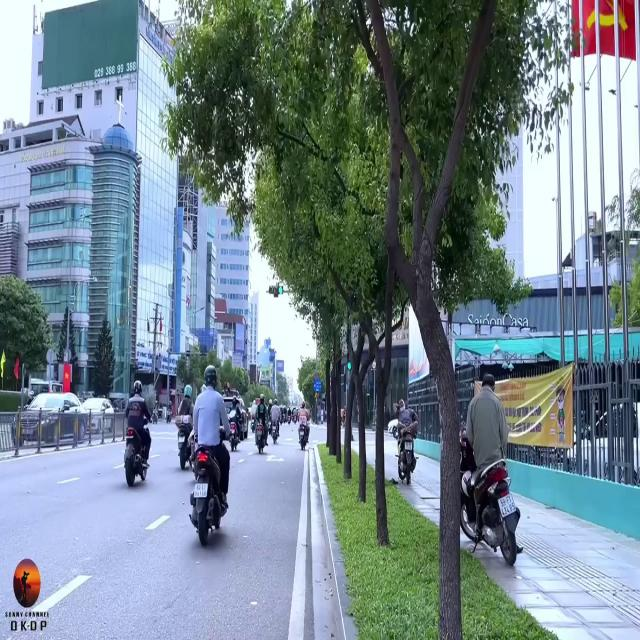bien_trang: (496, 489, 516, 524)
